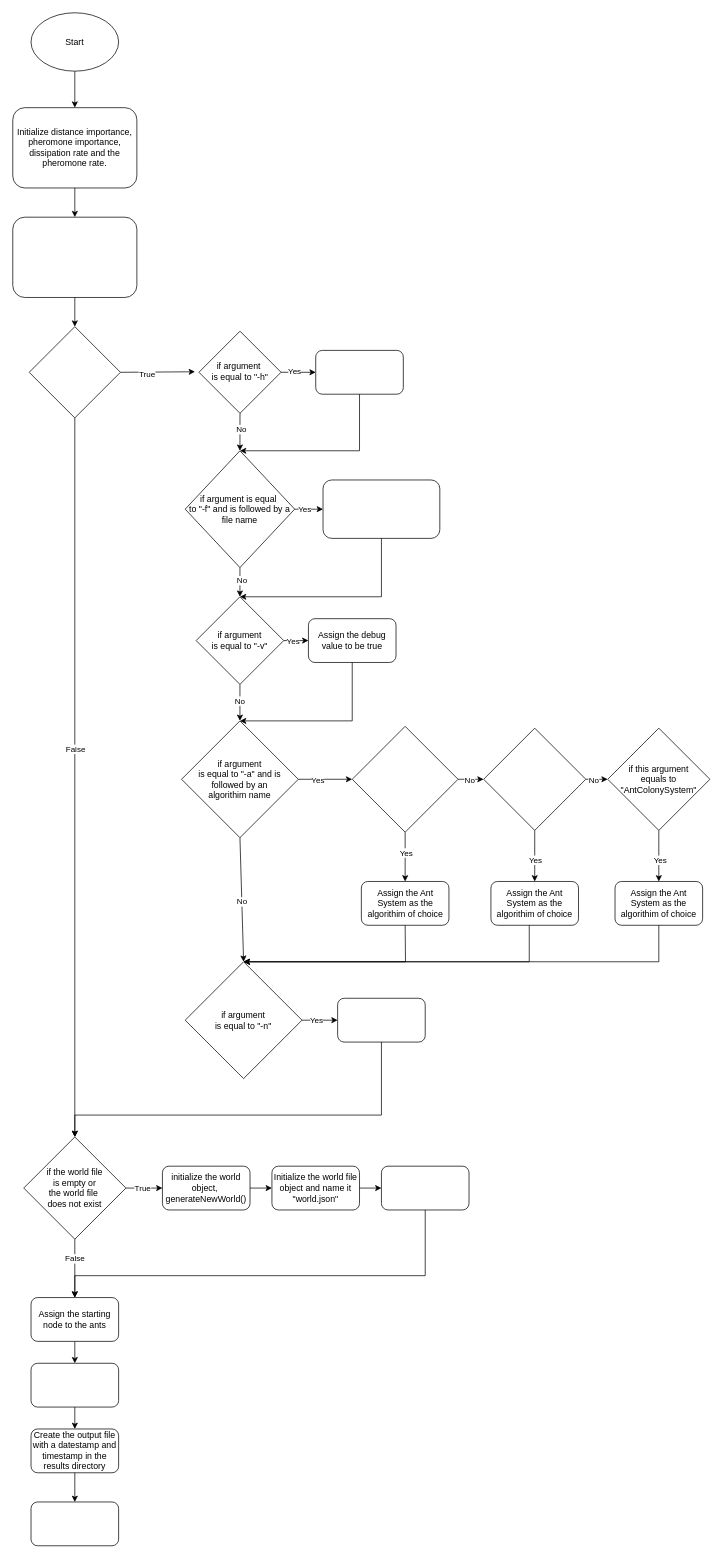
This 723x1559 diagram has some shape labels left out. The shapes that lost their labels are listed below. From the top down, each one's box as (x1, y1, x2, y2) in pixels, then its label:
(12, 216, 137, 297): Initialize the number of ants, and the number of generations of ants.
(28, 326, 120, 418): if arguments are greater than 0
(315, 350, 403, 394): Print the list of options available to the user
(322, 479, 440, 538): Assign the file as as the designated file for the structure of the world
(351, 726, 458, 832): if this argument equals to "AntSystem"
(483, 727, 586, 830): if this argument equals to "ElitistAntSystem"
(337, 998, 425, 1042): Disable the GUI on startup
(381, 1165, 469, 1210): Create the world file, outputWorldAsJson()
(30, 1363, 119, 1407): Create the results directory if it does not exist
